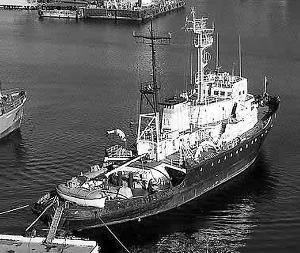otherboat: (42, 9, 281, 228)
